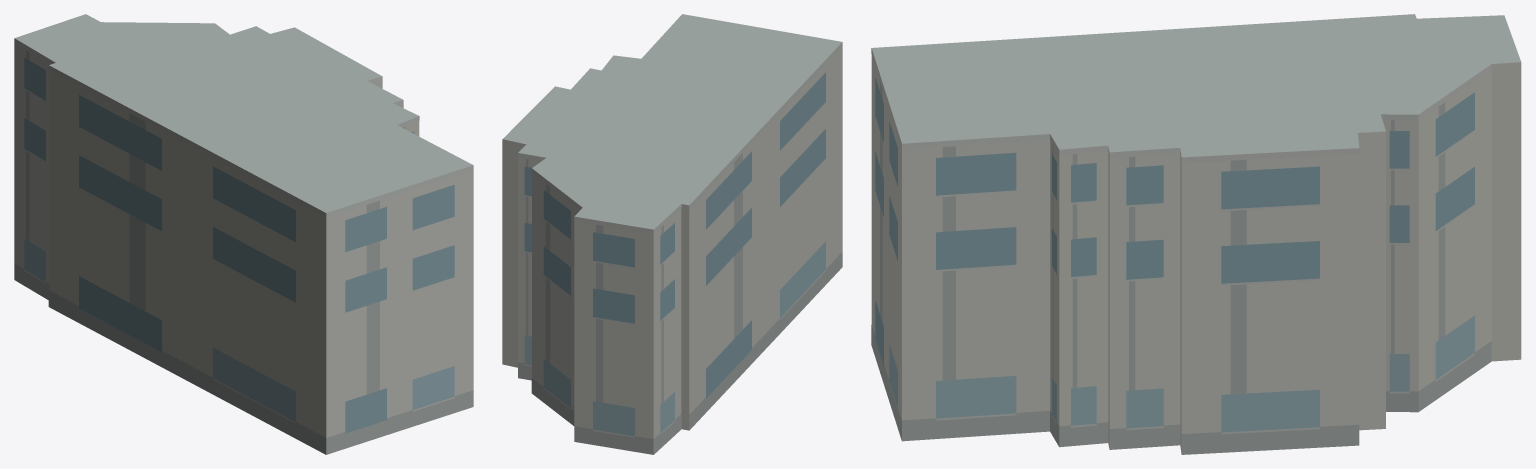
The model's file is survey-upis-33012349.glb.
3 views of the same model, side by side, from view 1: azimuth 30°, elevation 25°; view 2: azimuth 150°, elevation 25°; view 3: azimuth 270°, elevation 25° (orthographic). The views are drawn at different scales.
Visible parts, largest first — view 1: survey-upis-33012349.tmp; view 2: survey-upis-33012349.tmp; view 3: survey-upis-33012349.tmp.
Boxes of the visible parts, x1=… form: survey-upis-33012349.tmp: x1=14, y1=14, x2=473, y2=454; survey-upis-33012349.tmp: x1=502, y1=14, x2=842, y2=454; survey-upis-33012349.tmp: x1=871, y1=14, x2=1521, y2=454.
Bounding box in the file's own units: 12.62 × 12.2 × 24.16.
